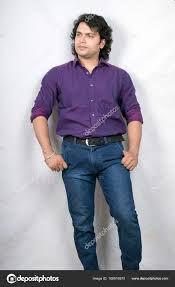Indian_Male: (77, 19, 100, 60)
